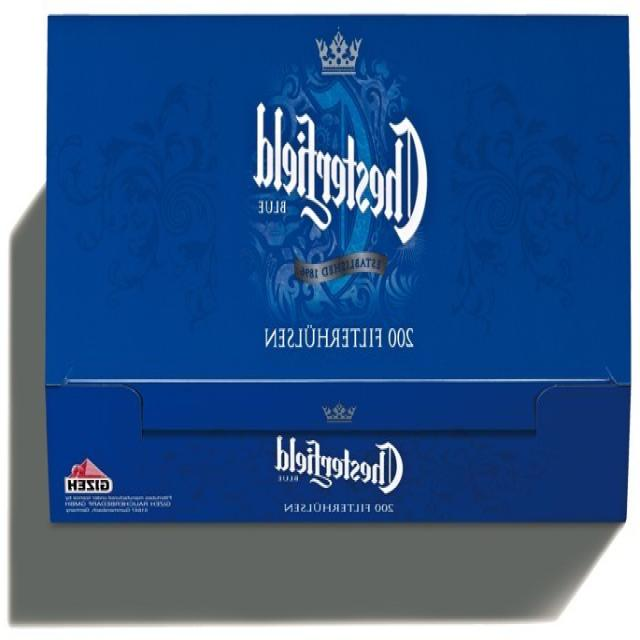chesterfield: (46, 16, 630, 521)
